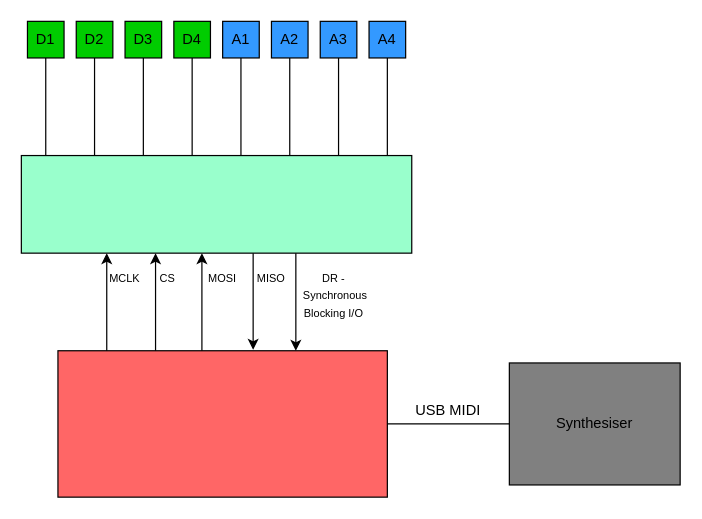
This 702x519 diagram has some shape labels left out. The shapes that lost their labels are listed below. From the top down, each one's box as (x1, y1, x2, y2) in pixels, then its label:
(20, 154, 412, 253): ADC - Component Name
(57, 350, 387, 497): Raspberry PI
